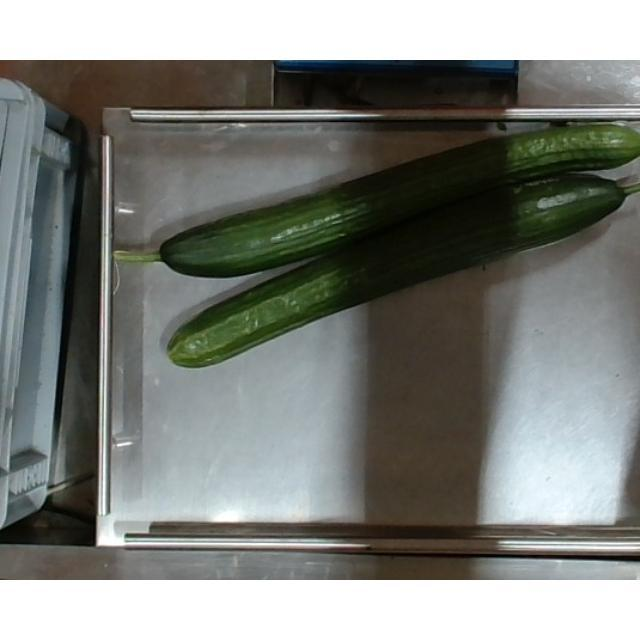cucumber: (166, 174, 640, 366), (114, 127, 640, 279)
